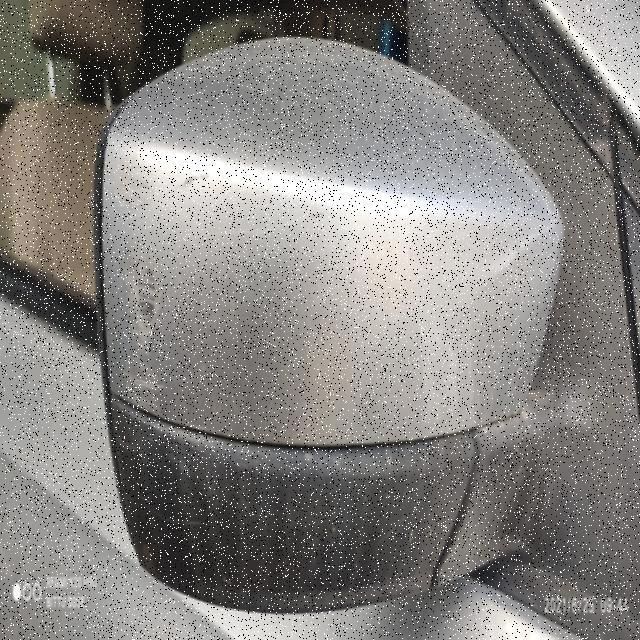Sidemirror-Damage: (86, 23, 570, 637)
